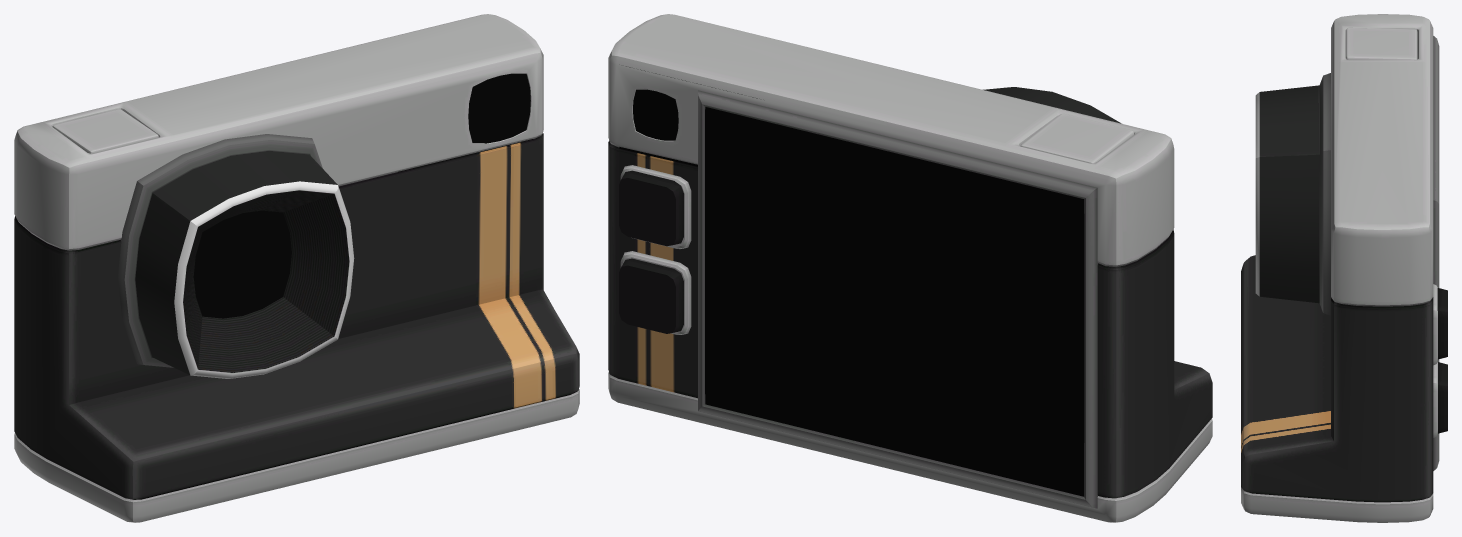
File: camera.glb
3 views of the same model, side by side, from view 1: azimuth 30°, elevation 25°; view 2: azimuth 150°, elevation 25°; view 3: azimuth 270°, elevation 25° (orthographic). The views are drawn at different scales.
Visible parts, largest first — view 1: ShareCamera_Body, Cube.001, Cube.002, ShareCamera_Flash; view 2: Cube, ShareCamera_Body, ShareCamera_Button1, ShareCamera_Button1.001, ShareCamera_Flash, Cube.003; view 3: ShareCamera_Body, ShareCamera_Flash, ShareCamera_Button1, ShareCamera_Button1.001.
Part boxes in pixels (x1=…): ShareCamera_Body: x1=14, y1=14, x2=579, y2=522; Cube.001: x1=193, y1=210, x2=291, y2=318; Cube.002: x1=398, y1=73, x2=532, y2=172; ShareCamera_Flash: x1=52, y1=109, x2=158, y2=153; Cube: x1=705, y1=107, x2=1084, y2=496; ShareCamera_Body: x1=608, y1=14, x2=1212, y2=522; ShareCamera_Button1: x1=619, y1=170, x2=683, y2=246; ShareCamera_Button1.001: x1=619, y1=258, x2=683, y2=333; ShareCamera_Flash: x1=1020, y1=113, x2=1134, y2=163; Cube.003: x1=619, y1=66, x2=757, y2=166; ShareCamera_Body: x1=1241, y1=14, x2=1439, y2=522; ShareCamera_Flash: x1=1346, y1=27, x2=1417, y2=60; ShareCamera_Button1: x1=1437, y1=288, x2=1447, y2=359; ShareCamera_Button1.001: x1=1438, y1=362, x2=1447, y2=433.
Size of the model in its own units: 0.4301 by 0.2741 by 0.1719.
Materials: 6 (2 with a texture image).
